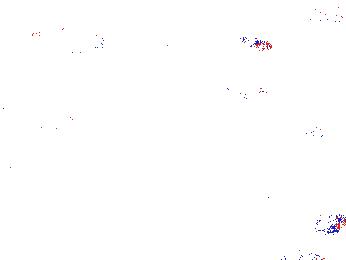X-ray fish: (174, 127, 211, 158), (304, 212, 346, 233)
red belly glassfish: (224, 83, 268, 101), (242, 35, 273, 54), (300, 123, 326, 143)
